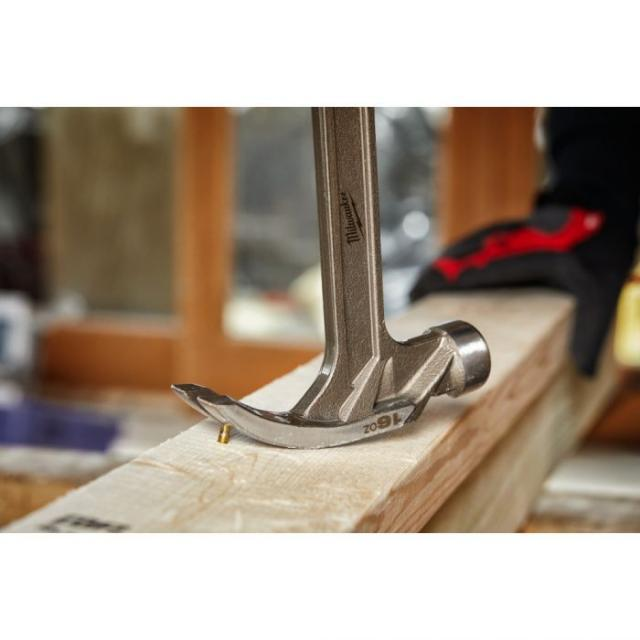hammer: (163, 103, 494, 454)
